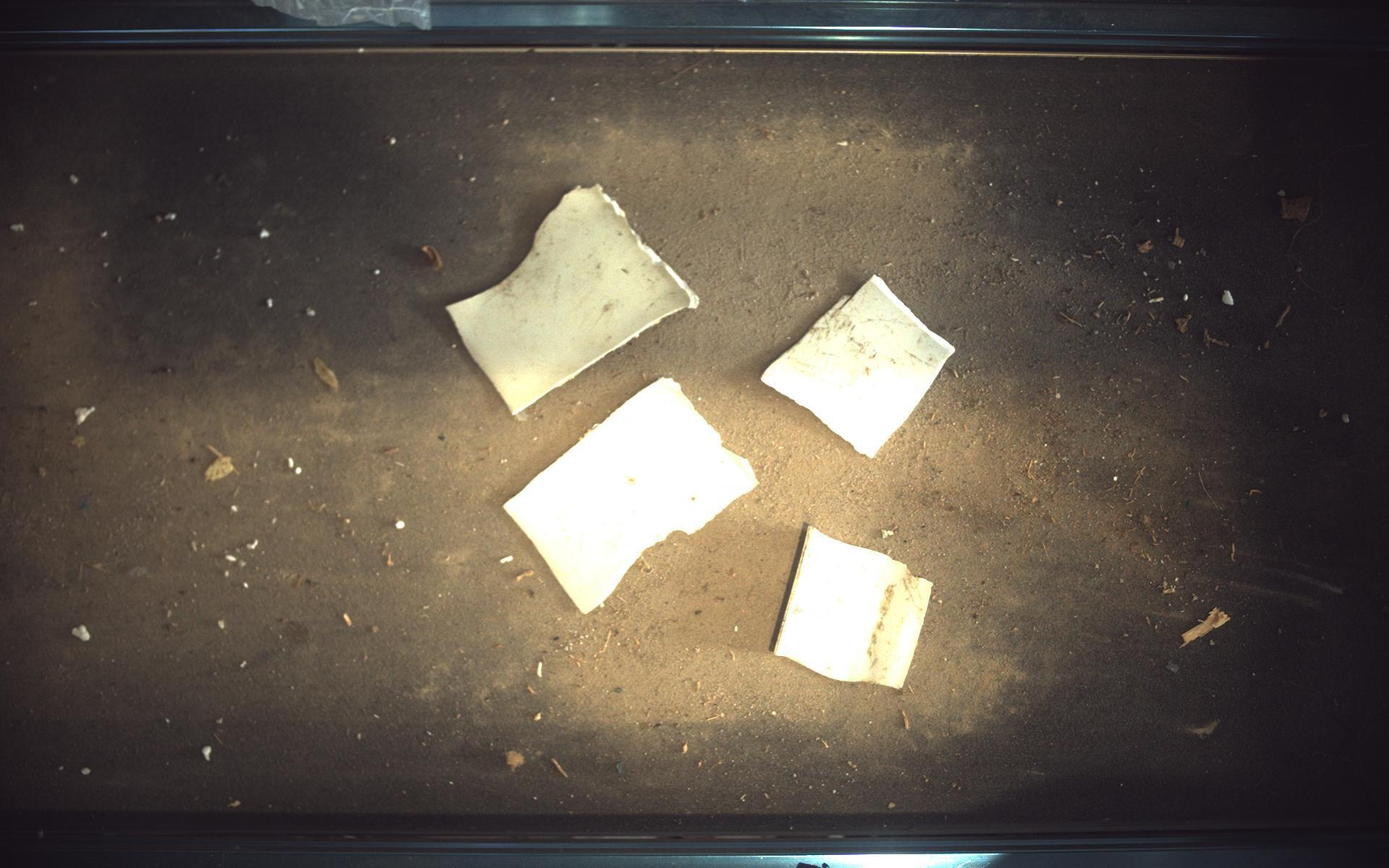plastic: (504, 378, 758, 614), (447, 184, 700, 414), (763, 275, 958, 458), (776, 527, 934, 689)
